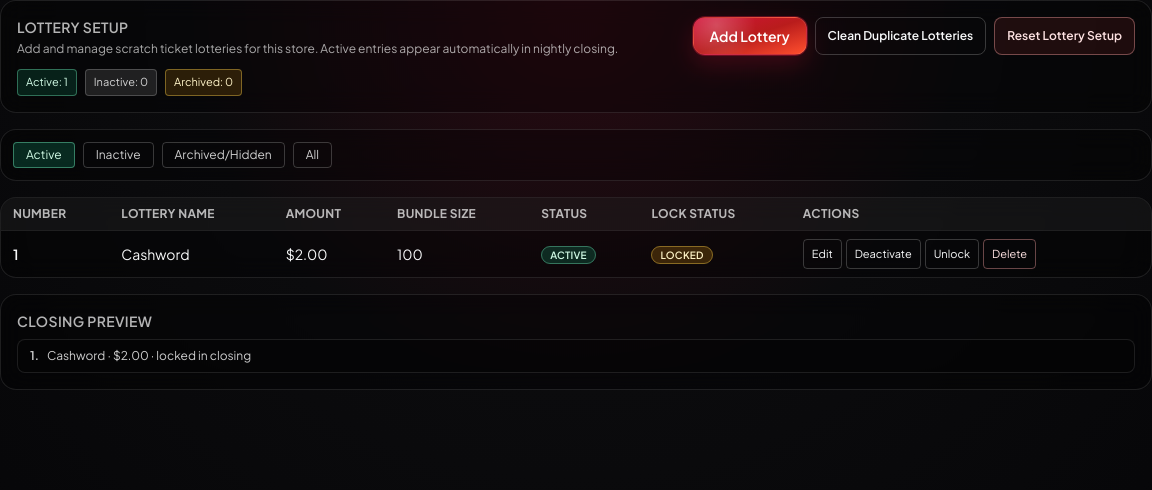
Test: LotteryMasterManager › runs clean duplicate maintenance and updates rows immediately
Click the button "Clean Duplicate Lotteries" at (900,36), box [815, 17, 986, 55]
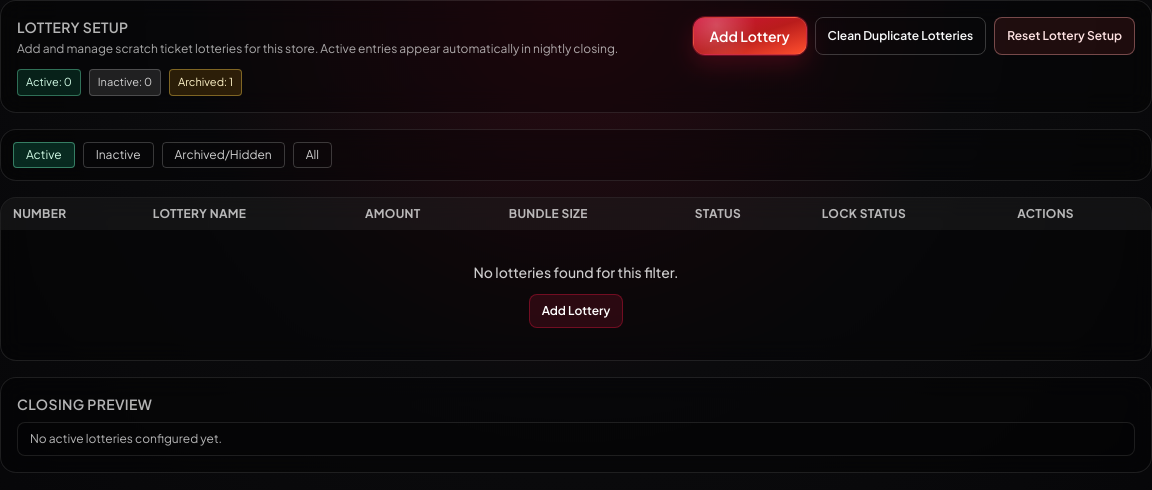
Result: the text "Archived: 1" is shown at [169, 69, 242, 96]
